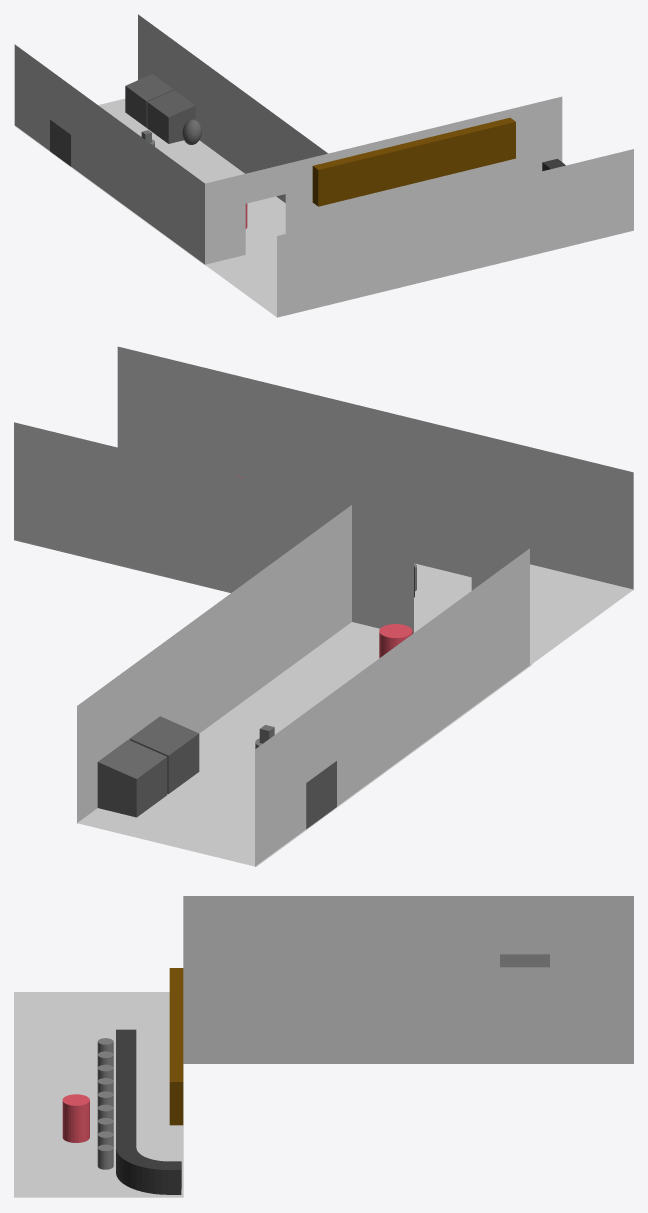
Rendered from blockout.fbx.
The picture shows the model from 3 angles, top to bottom: view 1: azimuth 30°, elevation 25°; view 2: azimuth 150°, elevation 25°; view 3: azimuth 270°, elevation 25°; orthographic projection. The views are drawn at different scales.
Parts seen in each view (by area): view 1: pared.001, pared, pared.003, pared.002, estanteria, suelo.001, suelo, Cube, Cube.002, Cube.003; view 2: pared.001, pared, pared.003, pared.002, suelo.001, suelo, Cube.002, Cube, Cube.003, Player.002; view 3: pared.002, pared.003, suelo, barra, estanteria, sillas, Player, Cube.003.
Boxes of the visible parts, left/top/right/bottom form: pared.001: left=277, top=149, right=633, bottom=317; pared: left=205, top=96, right=562, bottom=264; pared.003: left=14, top=44, right=204, bottom=264; pared.002: left=138, top=14, right=327, bottom=202; estanteria: left=312, top=117, right=515, bottom=206; suelo.001: left=14, top=98, right=285, bottom=265; suelo: left=206, top=248, right=276, bottom=317; Cube: left=147, top=90, right=195, bottom=143; Cube.002: left=125, top=74, right=173, bottom=127; Cube.003: left=50, top=119, right=71, bottom=166; pared.001: left=117, top=346, right=633, bottom=589; pared: left=14, top=422, right=529, bottom=633; pared.003: left=255, top=548, right=529, bottom=866; pared.002: left=77, top=505, right=351, bottom=823; suelo.001: left=77, top=622, right=532, bottom=866; suelo: left=414, top=563, right=633, bottom=663; Cube.002: left=97, top=739, right=167, bottom=817; Cube: left=129, top=716, right=199, bottom=793; Cube.003: left=306, top=761, right=336, bottom=828; Player.002: left=379, top=624, right=412, bottom=657; pared.002: left=183, top=967, right=633, bottom=1063; pared.003: left=183, top=896, right=633, bottom=967; suelo: left=14, top=992, right=183, bottom=1197; barra: left=116, top=1029, right=181, bottom=1194; estanteria: left=169, top=968, right=183, bottom=1125; sillas: left=97, top=1038, right=113, bottom=1169; Player: left=62, top=1094, right=89, bottom=1142; Cube.003: left=500, top=954, right=549, bottom=967.
Size of the model in its own units: 1787 by 389 by 2266.
